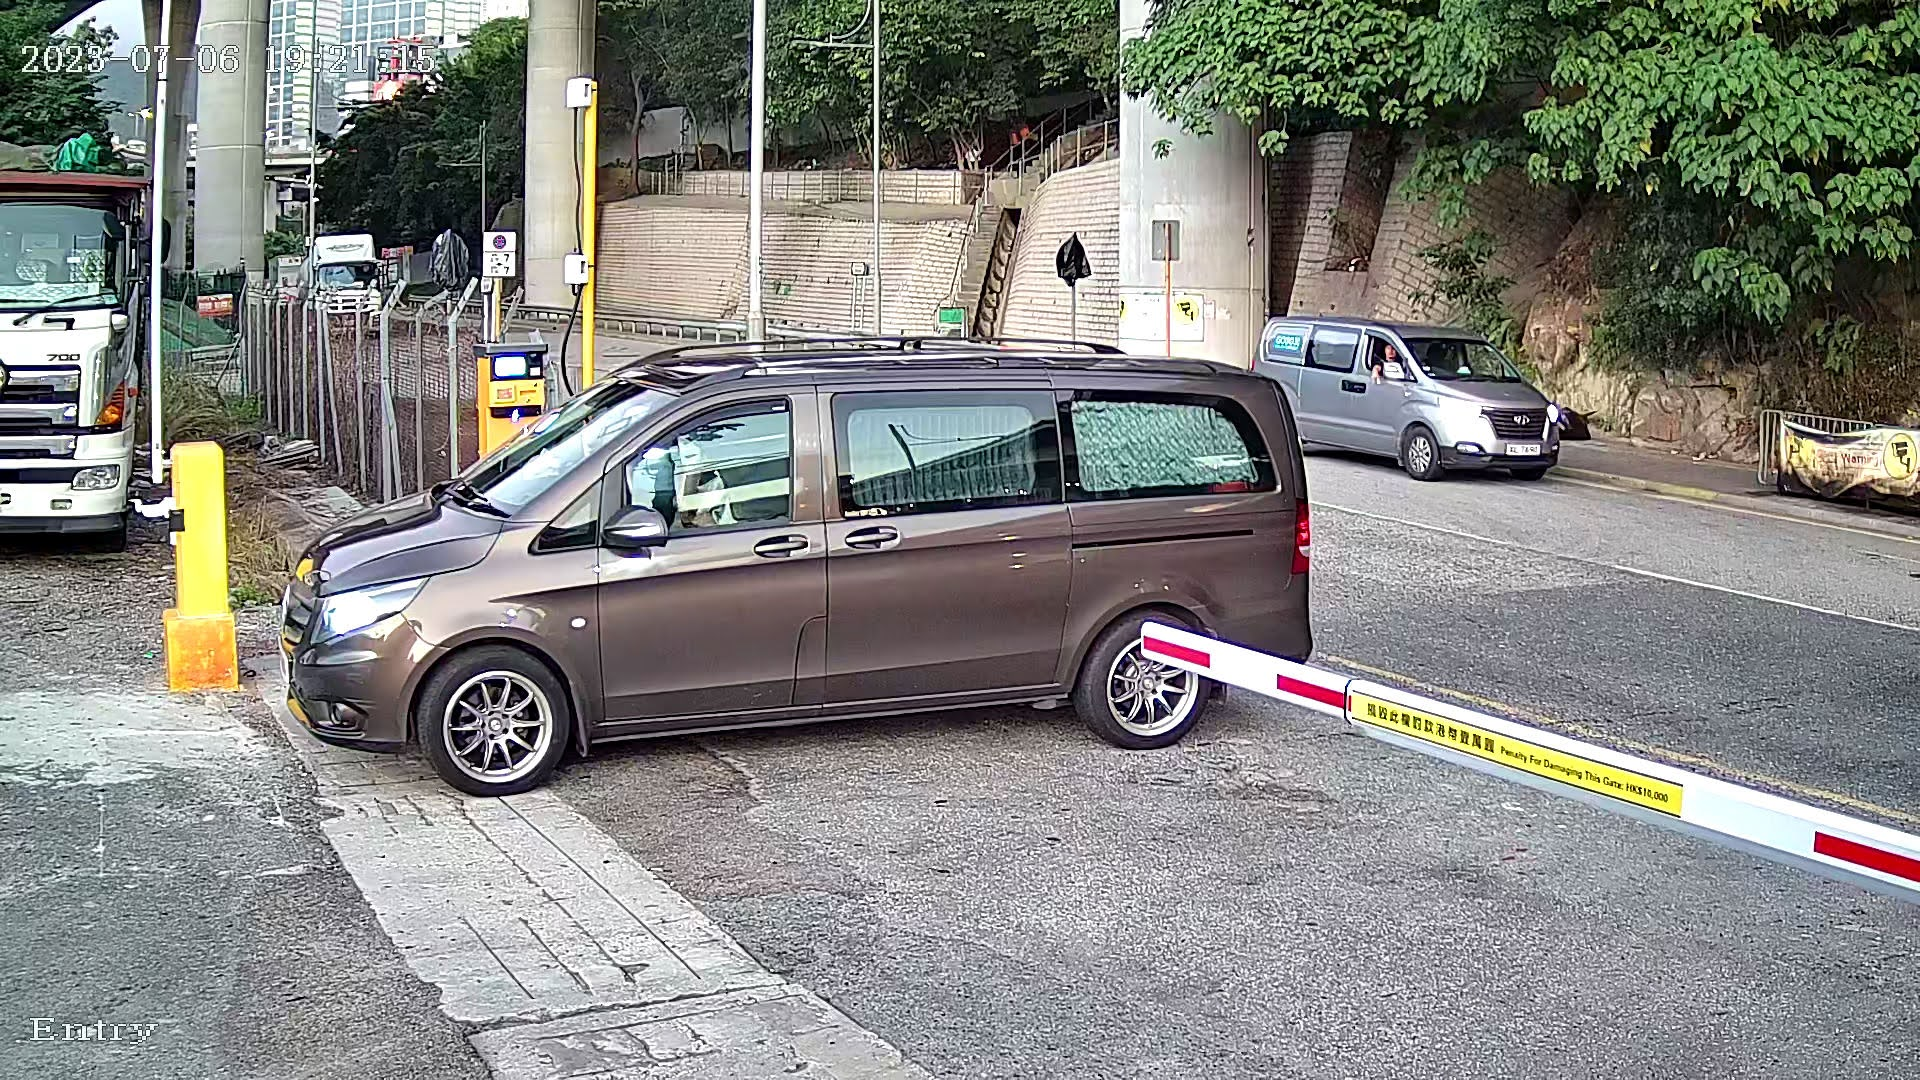privatecar: (251, 237, 1346, 864)
